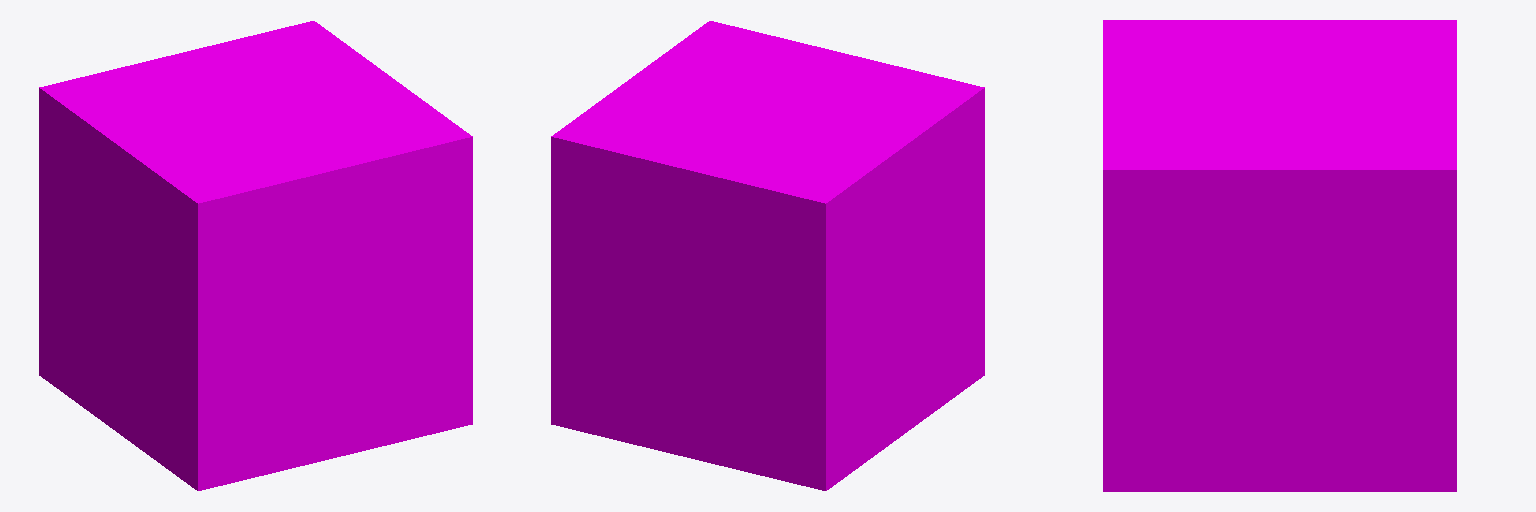
The robot description file, URDF, robot "cube.urdf":
<?xml version="1.0" ?>
<robot name="cube.urdf">
  <link name="cube">
    <contact>
    	<friction_anchor/>
      <lateral_friction value="1.0"/>
    </contact>
    <inertial>
      <origin rpy="0 0 0" xyz="0 0 0"/>
       <mass value="0.491"/>
       <inertia ixx="1" ixy="0" ixz="0" iyy="1" iyz="0" izz="1"/>
    </inertial>
    <visual>
      <origin rpy="0 0 0" xyz="0 0 0"/>
      <geometry>
        <box size="0.08 0.08 .08" />
      </geometry>
      <material name="blue">
       <color rgba="1 0.0 1.0 1.0"/>
     </material>
    </visual>
    <collision>
      <origin rpy="0 0 0" xyz="0 0 0"/>
      <geometry>
				<box size="0.08 0.08 .08" />
      </geometry>
    </collision>
  </link>
</robot>

--- What the picture shows (computed from the rendered views, not written in the file) ---
Views: 3 orthographic renders of the robot side by side, from view 1: azimuth 30°, elevation 25°; view 2: azimuth 150°, elevation 25°; view 3: azimuth 270°, elevation 25°.
Model cube.urdf with 1 links and 0 joints (none), rooted at cube, posed all joints at 0.
Links seen in each view (by area): view 1: cube; view 2: cube; view 3: cube.
Boxes of the visible links, x1=… form: cube: x1=39, y1=21, x2=472, y2=490; cube: x1=551, y1=21, x2=984, y2=490; cube: x1=1103, y1=20, x2=1456, y2=491.
Bounding box of the posed robot: 0.08 × 0.08 × 0.08 m (x, y, z).
Geometry: primitives only (box / cylinder / sphere), no mesh files.